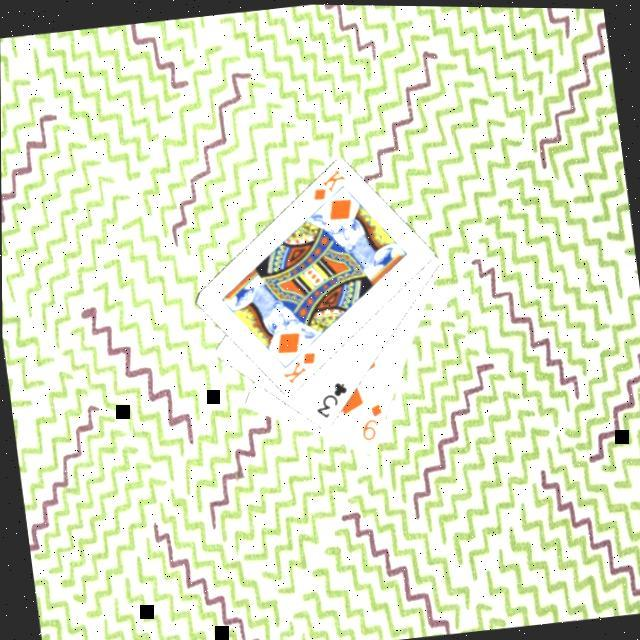3C: (308, 378, 352, 422)
9D: (354, 400, 386, 444)
KD: (274, 347, 320, 389), (305, 164, 349, 205)
